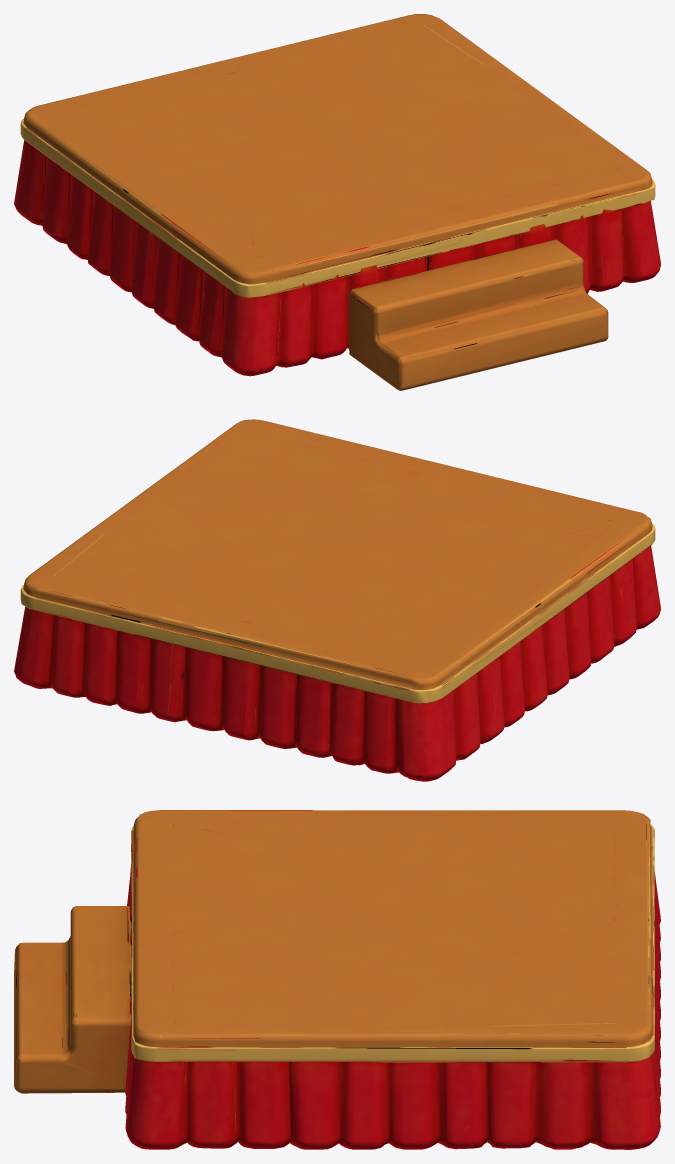
File: dance_stage.glb
3 renders of one model, top to bottom at view 1: azimuth 30°, elevation 25°; view 2: azimuth 150°, elevation 25°; view 3: azimuth 270°, elevation 25°, orthographic. The views are drawn at different scales.
Visible parts, largest first — view 1: geometry_0; view 2: geometry_0; view 3: geometry_0.
Part boxes in pixels (x1=…): geometry_0: x1=14, y1=14, x2=660, y2=390; geometry_0: x1=14, y1=419, x2=660, y2=781; geometry_0: x1=14, y1=810, x2=660, y2=1149.
Size of the model in its own units: 0.8228 by 0.189 by 0.9551.
1 material, 1 textured.
